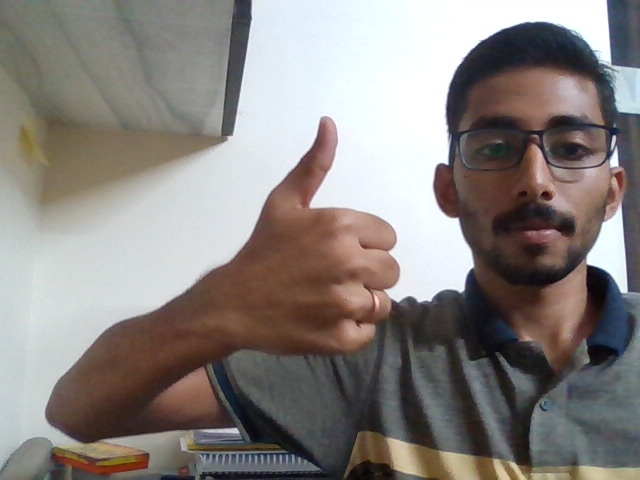Yes: (196, 101, 411, 367)
